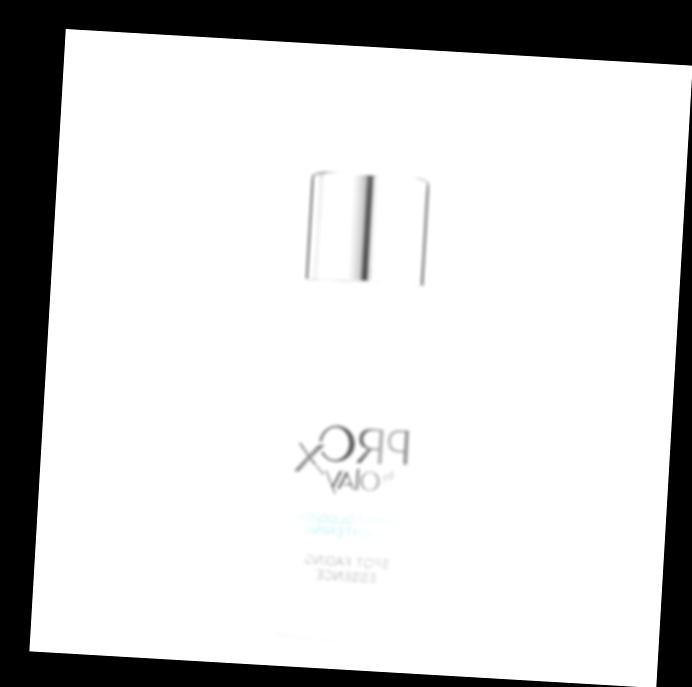cosmetic: (260, 75, 452, 632)
